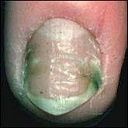Nail Fungal Infection: (21, 45, 107, 106)
